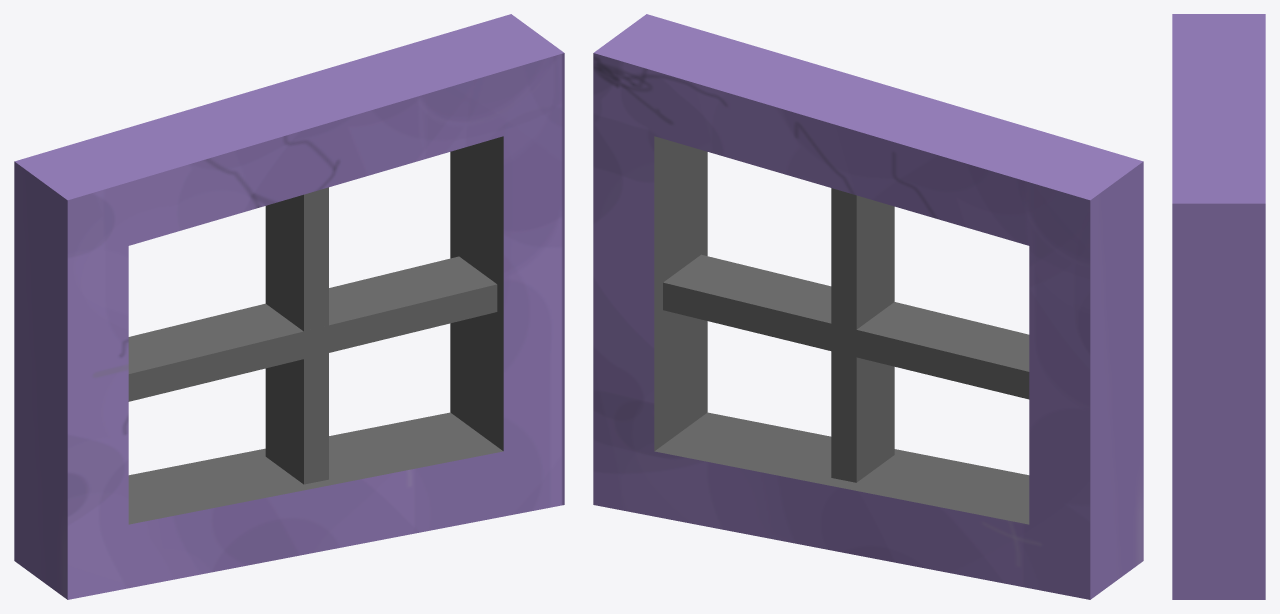
The model's file is window.fbx.
3 renders of one model, left to right at view 1: azimuth 30°, elevation 25°; view 2: azimuth 150°, elevation 25°; view 3: azimuth 270°, elevation 25°, orthographic. The views are drawn at different scales.
Parts seen in each view (by area): view 1: Cube.009; view 2: Cube.009; view 3: Cube.009.
Boxes of the visible parts, bbox=[...] form: Cube.009: bbox=[14, 14, 564, 599]; Cube.009: bbox=[593, 14, 1143, 599]; Cube.009: bbox=[1172, 14, 1265, 599].
Size of the model in its own units: 548 by 476 by 102.
Materials: 2 (1 with a texture image).
